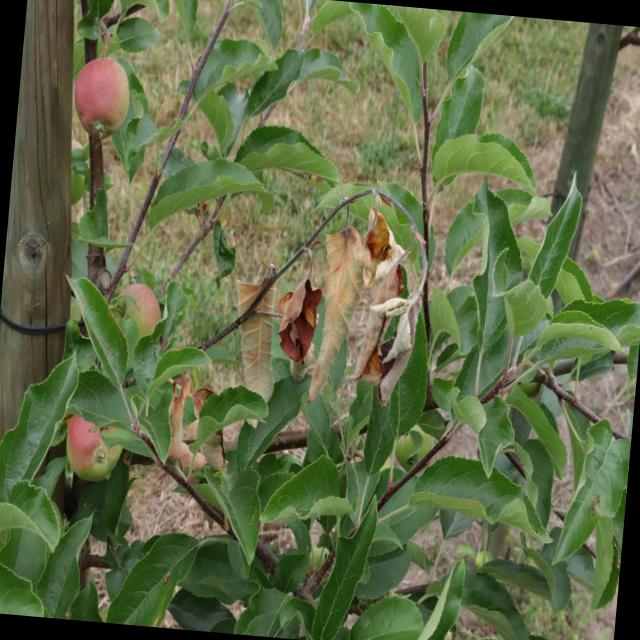-FireBlight-: (318, 201, 430, 403), (225, 270, 326, 400), (149, 364, 228, 474)
